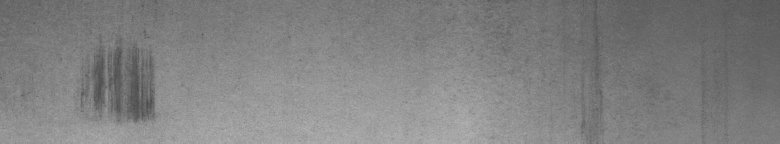ka: (81, 40, 156, 120)
